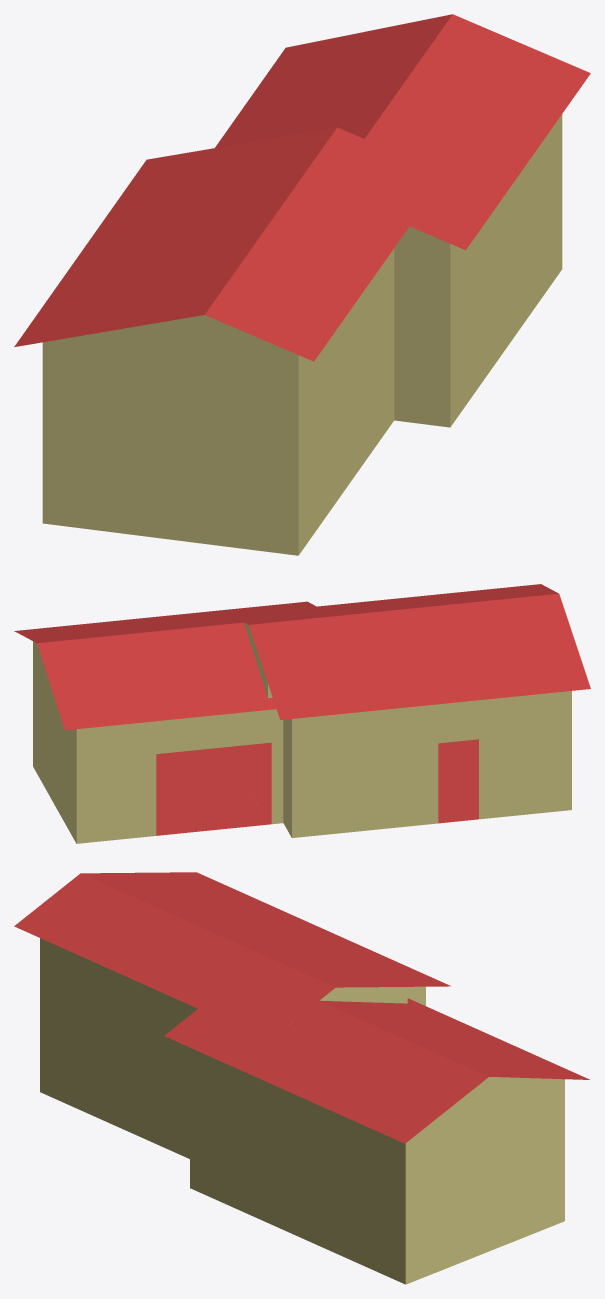
3 renders of one model, top to bottom at view 1: azimuth 30°, elevation 25°; view 2: azimuth 150°, elevation 25°; view 3: azimuth 270°, elevation 25°, orthographic. The views are drawn at different scales.
Parts seen in each view (by area): view 1: group_5, group_3, group_7, group_9; view 2: group_3, group_5, group_7, group_9, group_10, group_6; view 3: group_9, group_3, group_7, group_5.
Part boxes in pixels (x1,y1,x2,y2): group_5: (42,226,416,555); group_3: (14,127,446,361); group_7: (215,14,590,250); group_9: (416,114,562,427); group_3: (231,584,590,719); group_5: (244,622,571,837); group_7: (14,601,316,730); group_9: (33,641,271,843); group_10: (156,742,271,835); group_6: (230,739,478,824); group_9: (190,1048,564,1284); group_3: (14,872,450,1040); group_7: (164,998,589,1143); group_5: (40,938,425,1158).
Bounding box in the file's own units: 26.7 × 23.52 × 8.63.
